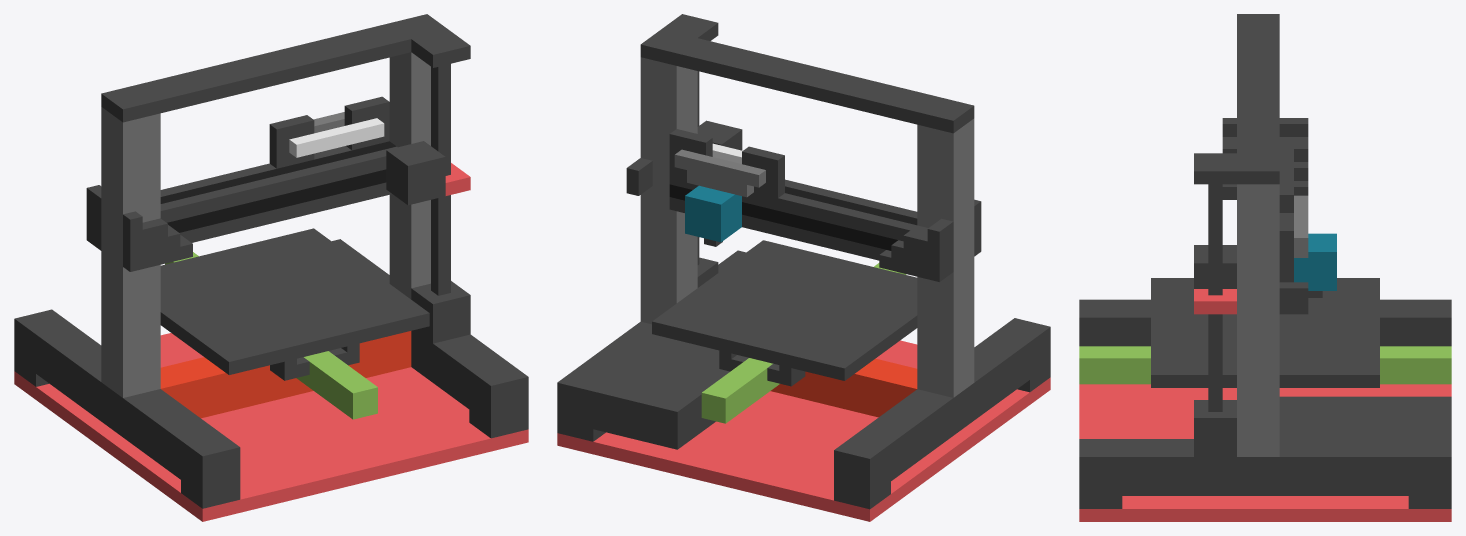
File: printer 1.obj
3 views of the same model, side by side, from view 1: azimuth 30°, elevation 25°; view 2: azimuth 150°, elevation 25°; view 3: azimuth 270°, elevation 25° (orthographic). The views are drawn at different scales.
Bounding box in the file's own units: 2.6 × 2.7 × 2.6.
